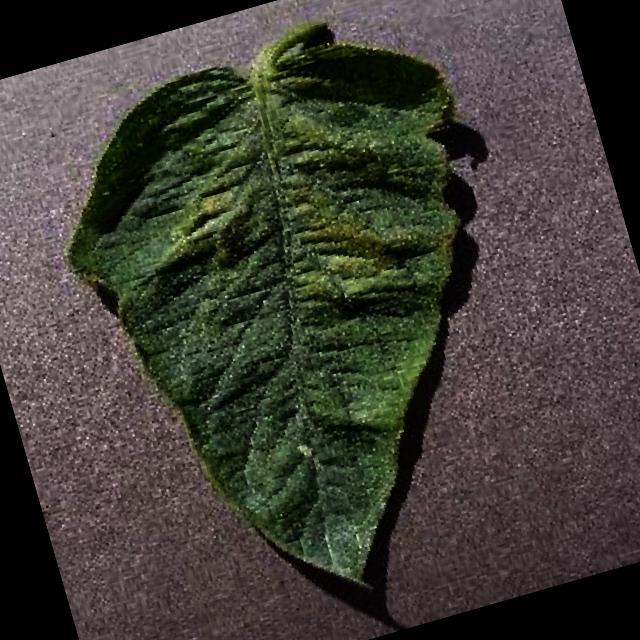Tomato spider mites leaf: (31, 7, 581, 640)
